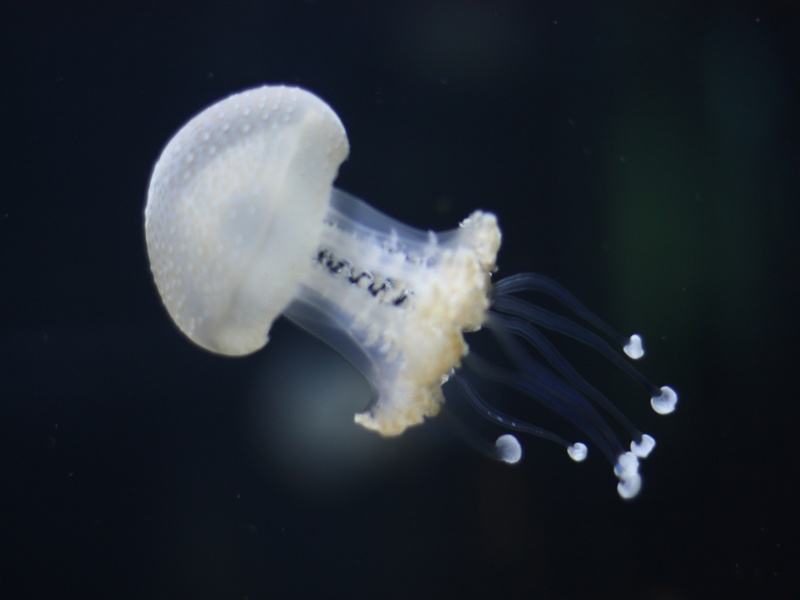Jellyfish: (144, 83, 677, 499)
